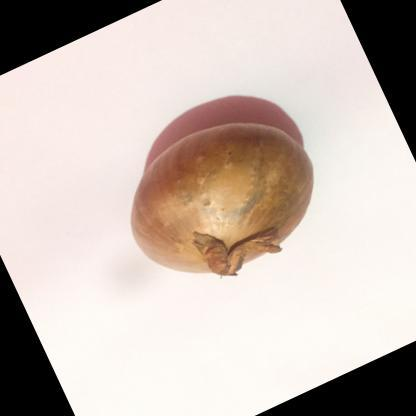onion: (90, 68, 355, 314)
